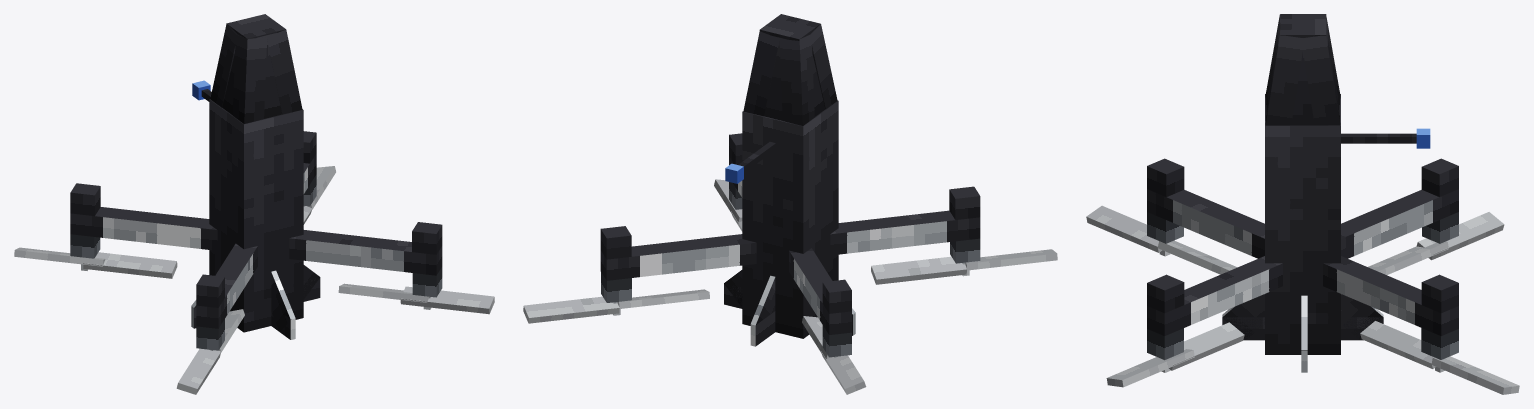
The model's file is p1sun.glb.
3 renders of one model, left to right at view 1: azimuth 30°, elevation 25°; view 2: azimuth 150°, elevation 25°; view 3: azimuth 270°, elevation 25°, orthographic. The views are drawn at different scales.
Parts seen in each view (by area): view 1: airframe, prop3, prop1, prop2, prop4; view 2: airframe, prop2, prop4, prop3, prop1; view 3: airframe, prop4, prop1, prop2, prop3.
Boxes of the visible parts, left/top/right/bottom form: airframe: left=70, top=14, right=442, bottom=350; prop3: left=14, top=247, right=177, bottom=278; prop1: left=338, top=283, right=494, bottom=314; prop2: left=176, top=309, right=244, bottom=394; prop4: left=303, top=166, right=335, bottom=224; airframe: left=600, top=14, right=980, bottom=357; prop2: left=871, top=249, right=1057, bottom=284; prop4: left=523, top=289, right=709, bottom=323; prop3: left=802, top=316, right=866, bottom=394; prop1: left=714, top=179, right=742, bottom=231; airframe: left=1147, top=14, right=1458, bottom=372; prop4: left=1360, top=321, right=1519, bottom=394; prop1: left=1106, top=322, right=1244, bottom=387; prop2: left=1086, top=205, right=1237, bottom=274; prop3: left=1368, top=212, right=1504, bottom=274.
Bounding box in the file's own units: 1.07 × 0.8597 × 1.07.
Materials: 1 (1 with a texture image).
